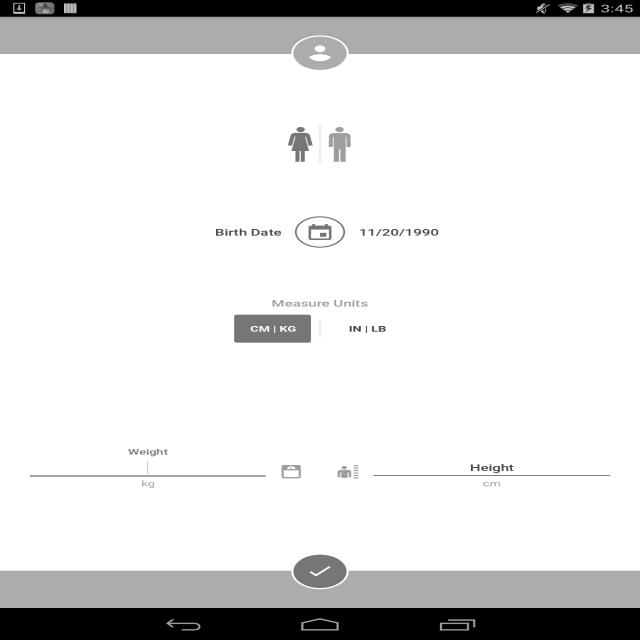Button: (234, 314, 311, 342), (329, 314, 406, 342)
EditText: (25, 455, 270, 481), (369, 455, 614, 481)
ImageButton: (284, 124, 316, 164), (324, 124, 356, 164)
ImageView: (291, 36, 349, 72), (291, 554, 349, 590), (294, 216, 346, 248), (278, 464, 304, 479), (335, 464, 360, 479)
TextView: (25, 478, 270, 496), (369, 478, 614, 496), (271, 297, 368, 309), (358, 226, 438, 238), (215, 226, 282, 238)
